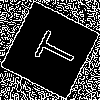T: (24, 25, 80, 73)
